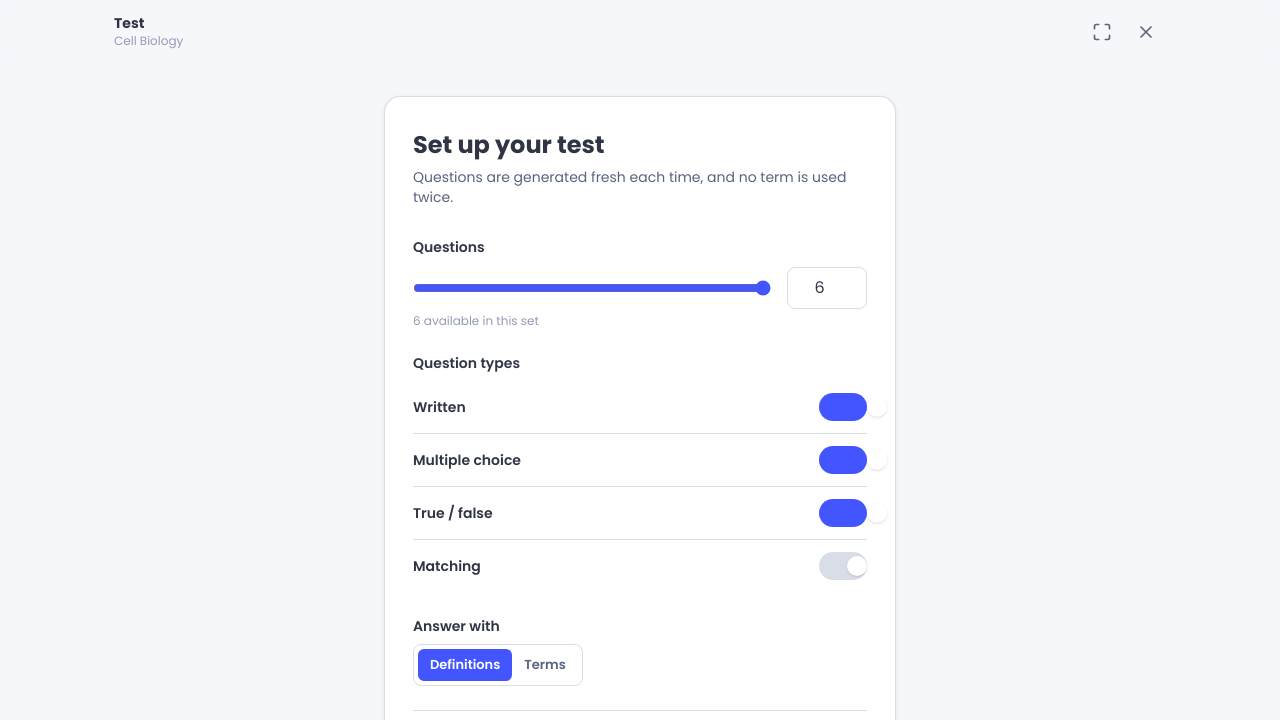
Test › counts an unanswered question as wrong rather than skipping it
This screenshot has width=1280, height=720.
Expected: the heading "Set up your test" is shown, top-left (413, 128), bottom-right (605, 161)
Click the switch named "Multiple choice" at (843, 460), box top-left (819, 446), bottom-right (867, 474)
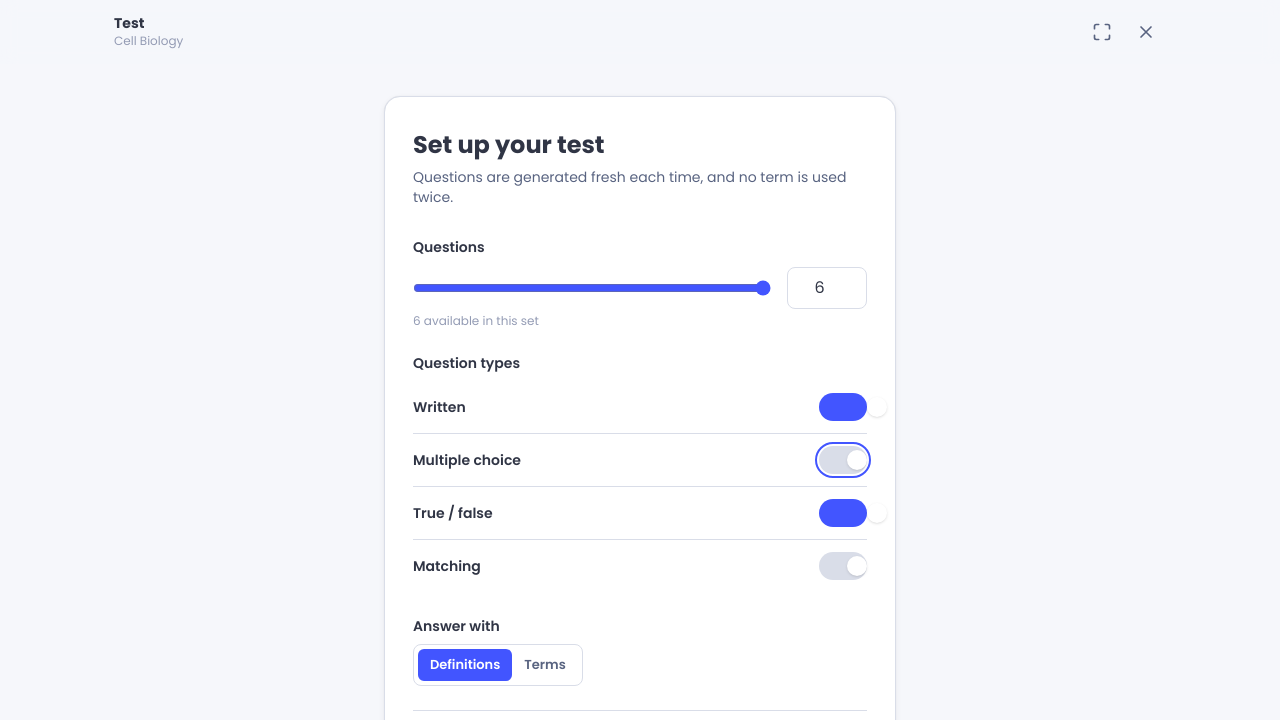
Click the switch named "True / false" at (843, 513), box top-left (819, 499), bottom-right (867, 527)
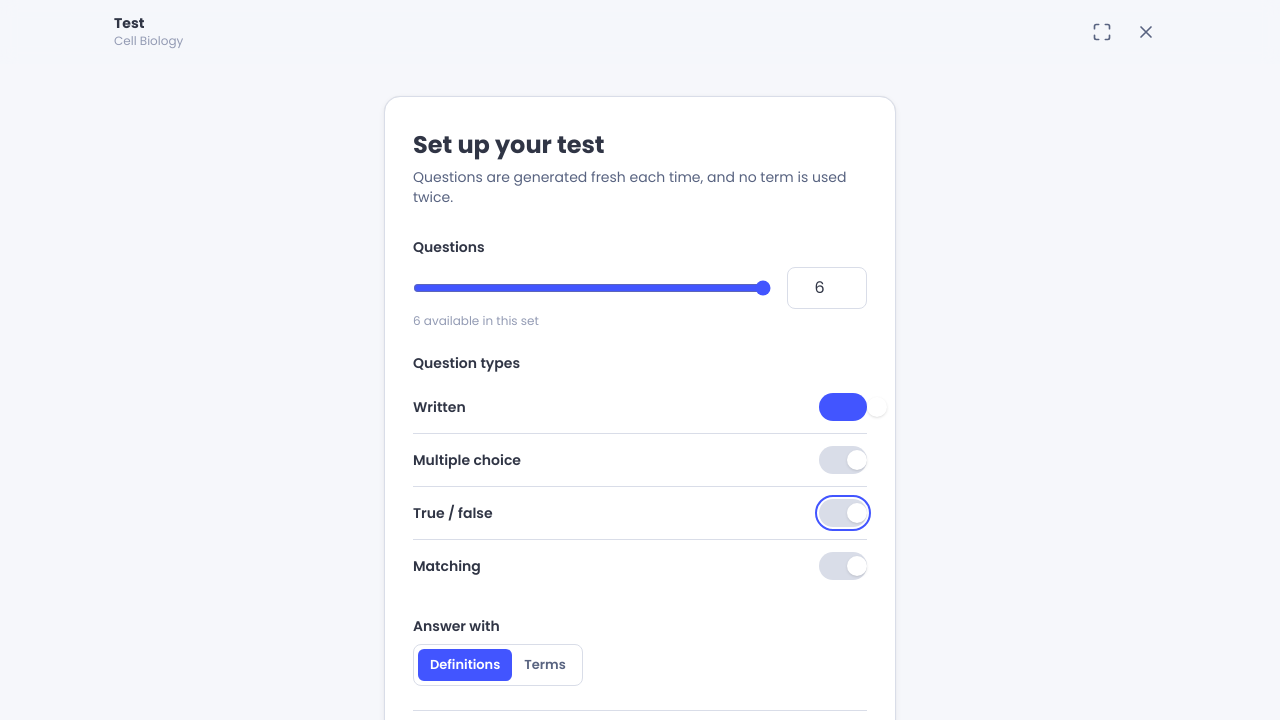
Replace the text in the number field named "question count" with "2" at (827, 288), box top-left (787, 267), bottom-right (867, 309)
(page scrolled)
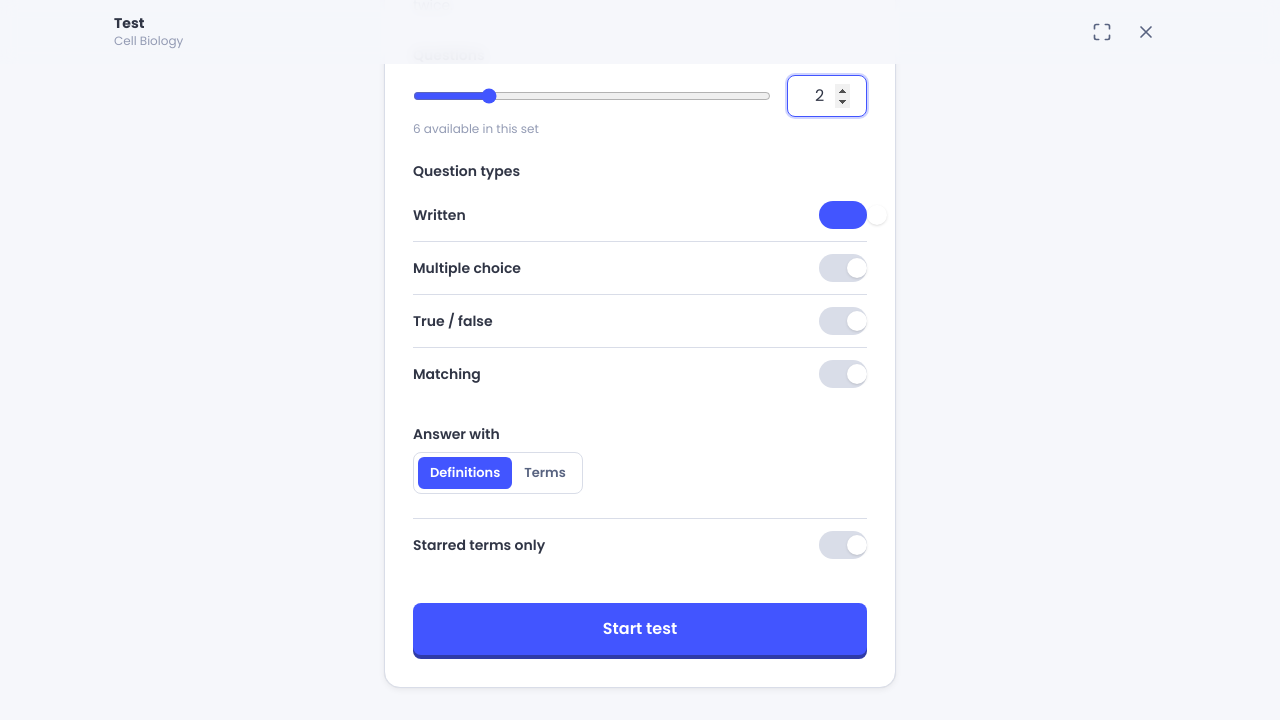
Click the button "Start test" at (640, 628), box top-left (413, 602), bottom-right (867, 654)
(page scrolled)
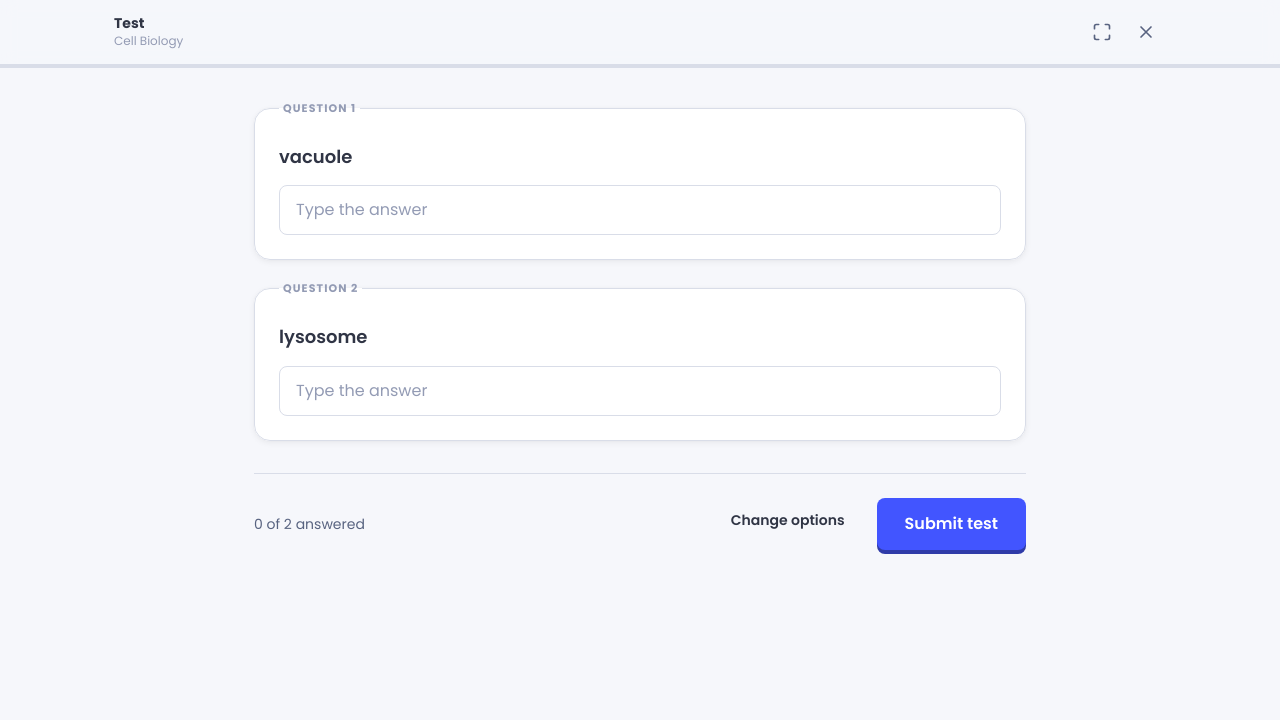
Now the text "Question 1" is shown, box top-left (279, 100), bottom-right (360, 116)
Click the button "Submit test" at (951, 524), box top-left (877, 498), bottom-right (1026, 550)
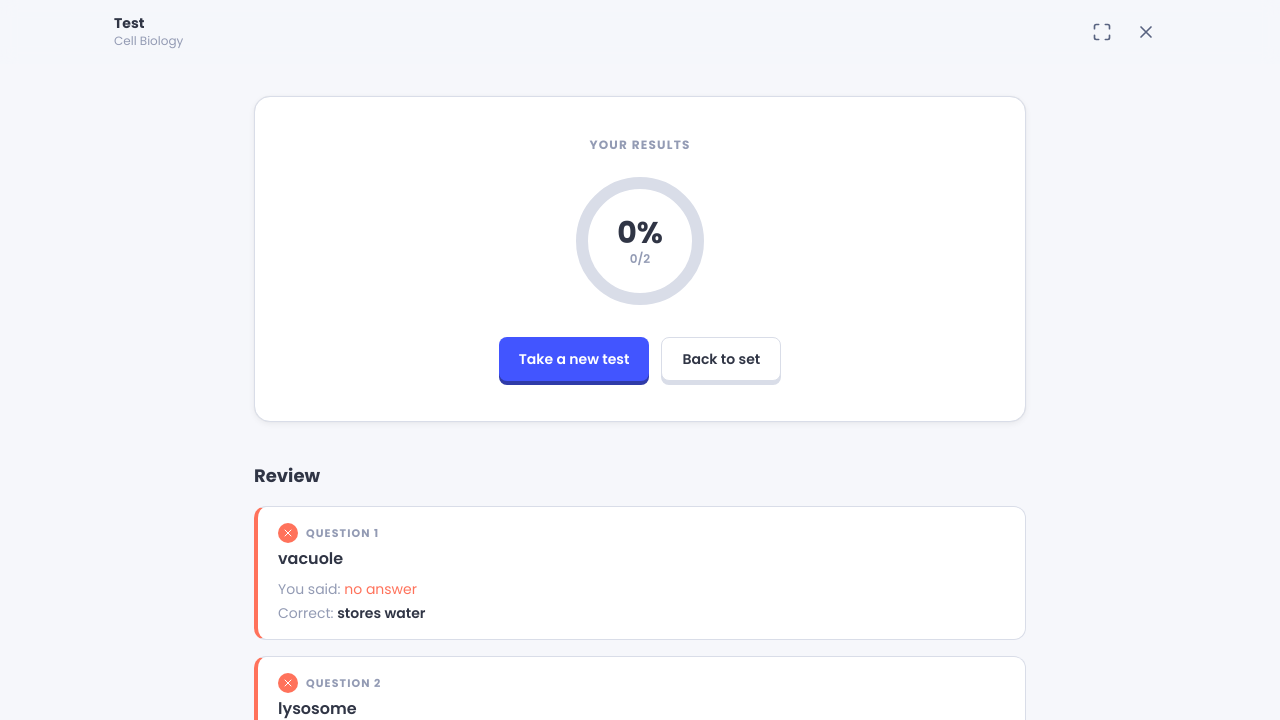
Now the text "0%" is shown, box top-left (617, 215), bottom-right (663, 251)
Now the text "no answer" is shown 2 times
